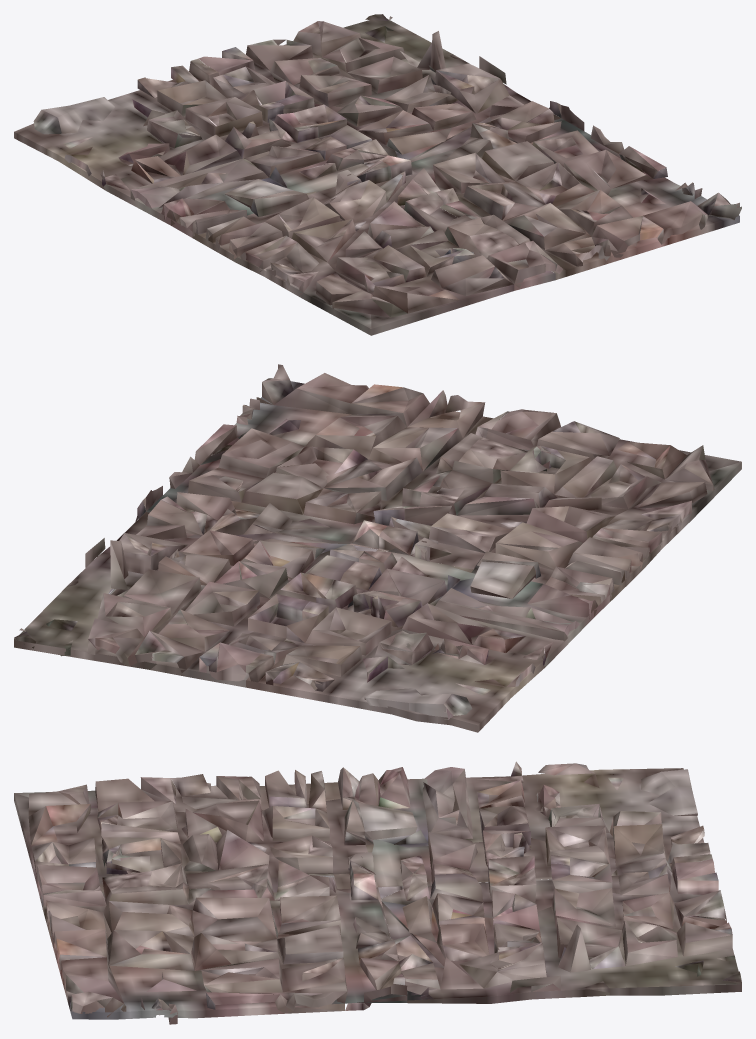
3 views of the same model, one above another, from view 1: azimuth 30°, elevation 25°; view 2: azimuth 150°, elevation 25°; view 3: azimuth 270°, elevation 25° (orthographic). The views are drawn at different scales.
Parts seen in each view (by area): view 1: Mesh_0; view 2: Mesh_0; view 3: Mesh_0.
Part boxes in pixels (left/top/right/bottom): Mesh_0: left=14, top=14, right=741, bottom=335; Mesh_0: left=14, top=364, right=741, bottom=732; Mesh_0: left=14, top=761, right=741, bottom=1024.
Size of the model in its own units: 1070 by 119 by 1318.
Materials: 2 (2 with a texture image).
